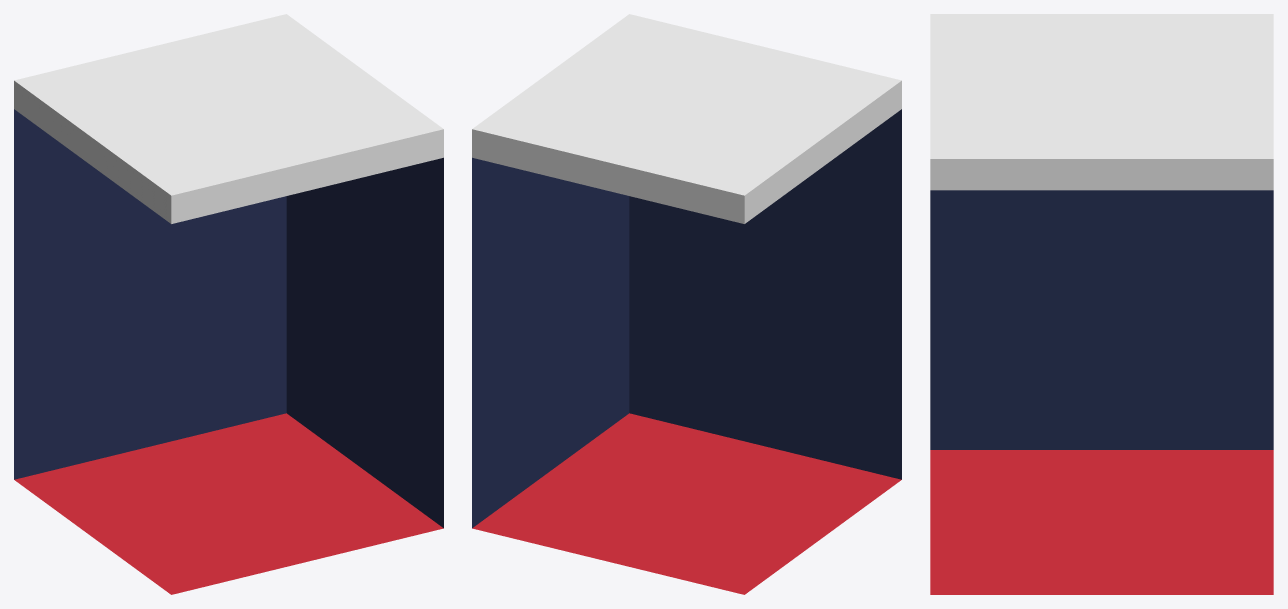
Rendered from Room.fbx.
3 renders of one model, left to right at view 1: azimuth 30°, elevation 25°; view 2: azimuth 150°, elevation 25°; view 3: azimuth 270°, elevation 25°, orthographic. The views are drawn at different scales.
Visible parts, largest first — view 1: Cube, Roof, Plane; view 2: Cube, Roof, Plane; view 3: Cube, Roof, Plane.
Part boxes in pixels (left/top/right/bottom): Cube: left=14, top=109, right=443, bottom=528; Roof: left=14, top=14, right=443, bottom=223; Plane: left=14, top=413, right=443, bottom=594; Cube: left=472, top=109, right=901, bottom=528; Roof: left=472, top=14, right=901, bottom=223; Plane: left=472, top=413, right=901, bottom=594; Cube: left=930, top=190, right=1273, bottom=449; Roof: left=930, top=14, right=1273, bottom=190; Plane: left=930, top=450, right=1273, bottom=594.
Size of the model in its own units: 200 by 280 by 200.
